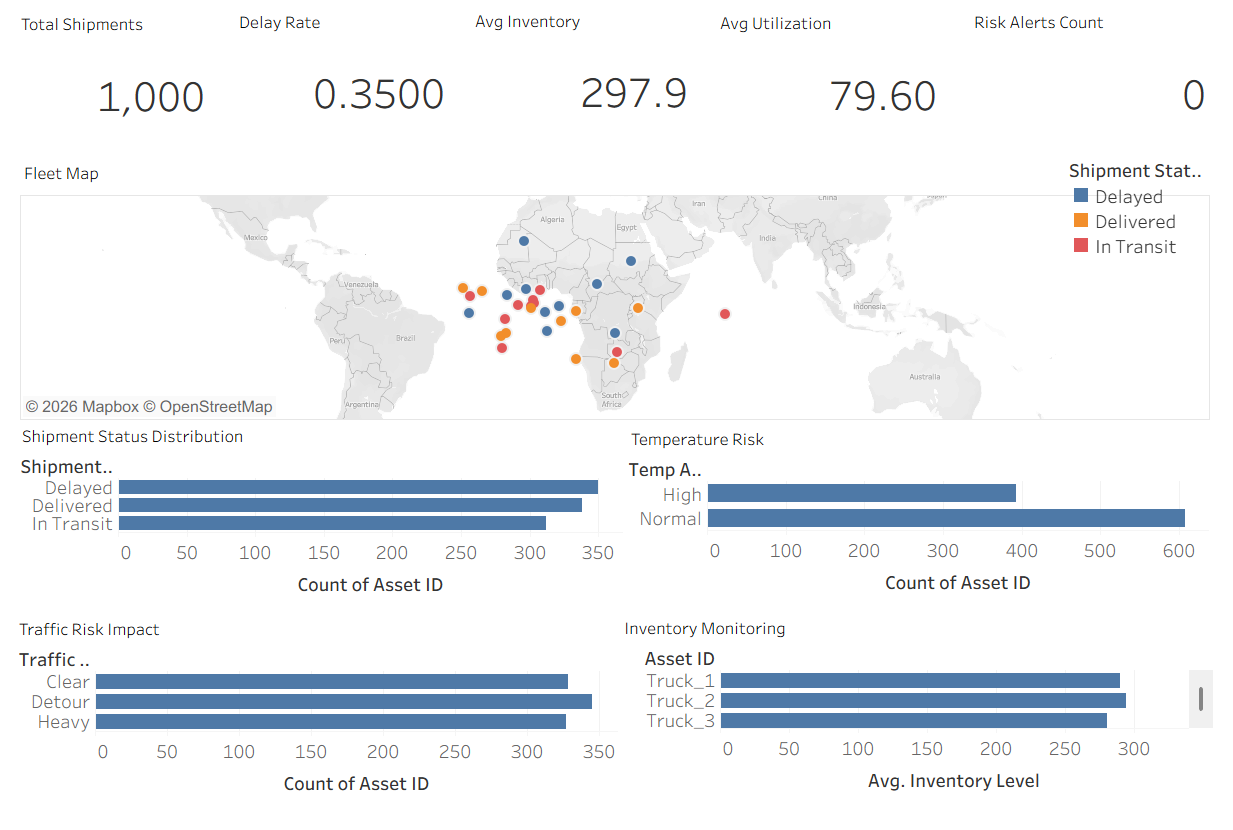

This screenshot's page, from the dashboard's own definition file:
{"tool":"tableau","page":{"name":"Supply Chain Logistics Performance Dashboard","canvas":[1200,800],"ordinal":0},"visuals":[{"type":"worksheet","title":"Avg Inventory","mark":"Automatic","box":[456,0,221,135]},{"type":"worksheet","title":"Delay Rate","mark":"Automatic","box":[220,1,214,136]},{"type":"worksheet","title":"Risk Alerts Count","mark":"Automatic","box":[955,1,240,137]},{"type":"worksheet","title":"Avg Utilization","mark":"Automatic","box":[701,2,225,138]},{"type":"worksheet","title":"Total Shipments","mark":"Automatic","box":[2,3,192,137]},{"type":"worksheet","title":"Fleet Map","mark":"Automatic","rows":["Latitude"],"cols":["Longitude"],"box":[5,152,1190,263]},{"type":"legend","title":"Fleet Map","param":"[federated.10vniji0myyvct16o0bbp19fnfic].[none:Shipment_Status:nk]","box":[1054,152,140,101]},{"type":"worksheet","title":"Shipment Status Distribution","mark":"Automatic","rows":["Shipment_Status"],"cols":["Asset_ID"],"box":[3,415,605,183]},{"type":"worksheet","title":"Temperature Risk","mark":"Automatic","rows":["Calculation_1525887480692738"],"cols":["Asset_ID"],"box":[612,418,582,178]},{"type":"worksheet","title":"Inventory Monitoring","mark":"Automatic","rows":["Asset_ID"],"cols":["Inventory_Level"],"box":[605,607,593,187]},{"type":"worksheet","title":"Traffic Risk Impact","mark":"Automatic","rows":["Traffic_Status"],"cols":["Asset_ID"],"box":[0,608,603,189]}]}

Visuals, with their boxes in screenshot pixels (x1, y1, x2, y2), scaled from the page's 1200x800 canvas onto the 1233x830 screenshot:
"Avg Inventory" worksheet: region(469, 0, 696, 140)
"Delay Rate" worksheet: region(226, 1, 446, 142)
"Risk Alerts Count" worksheet: region(981, 1, 1228, 143)
"Avg Utilization" worksheet: region(720, 2, 951, 145)
"Total Shipments" worksheet: region(2, 3, 199, 145)
"Fleet Map" worksheet: region(5, 158, 1228, 431)
"Fleet Map" legend: region(1083, 158, 1227, 262)
"Shipment Status Distribution" worksheet: region(3, 431, 625, 620)
"Temperature Risk" worksheet: region(629, 434, 1227, 618)
"Inventory Monitoring" worksheet: region(622, 630, 1231, 824)
"Traffic Risk Impact" worksheet: region(0, 631, 620, 827)
